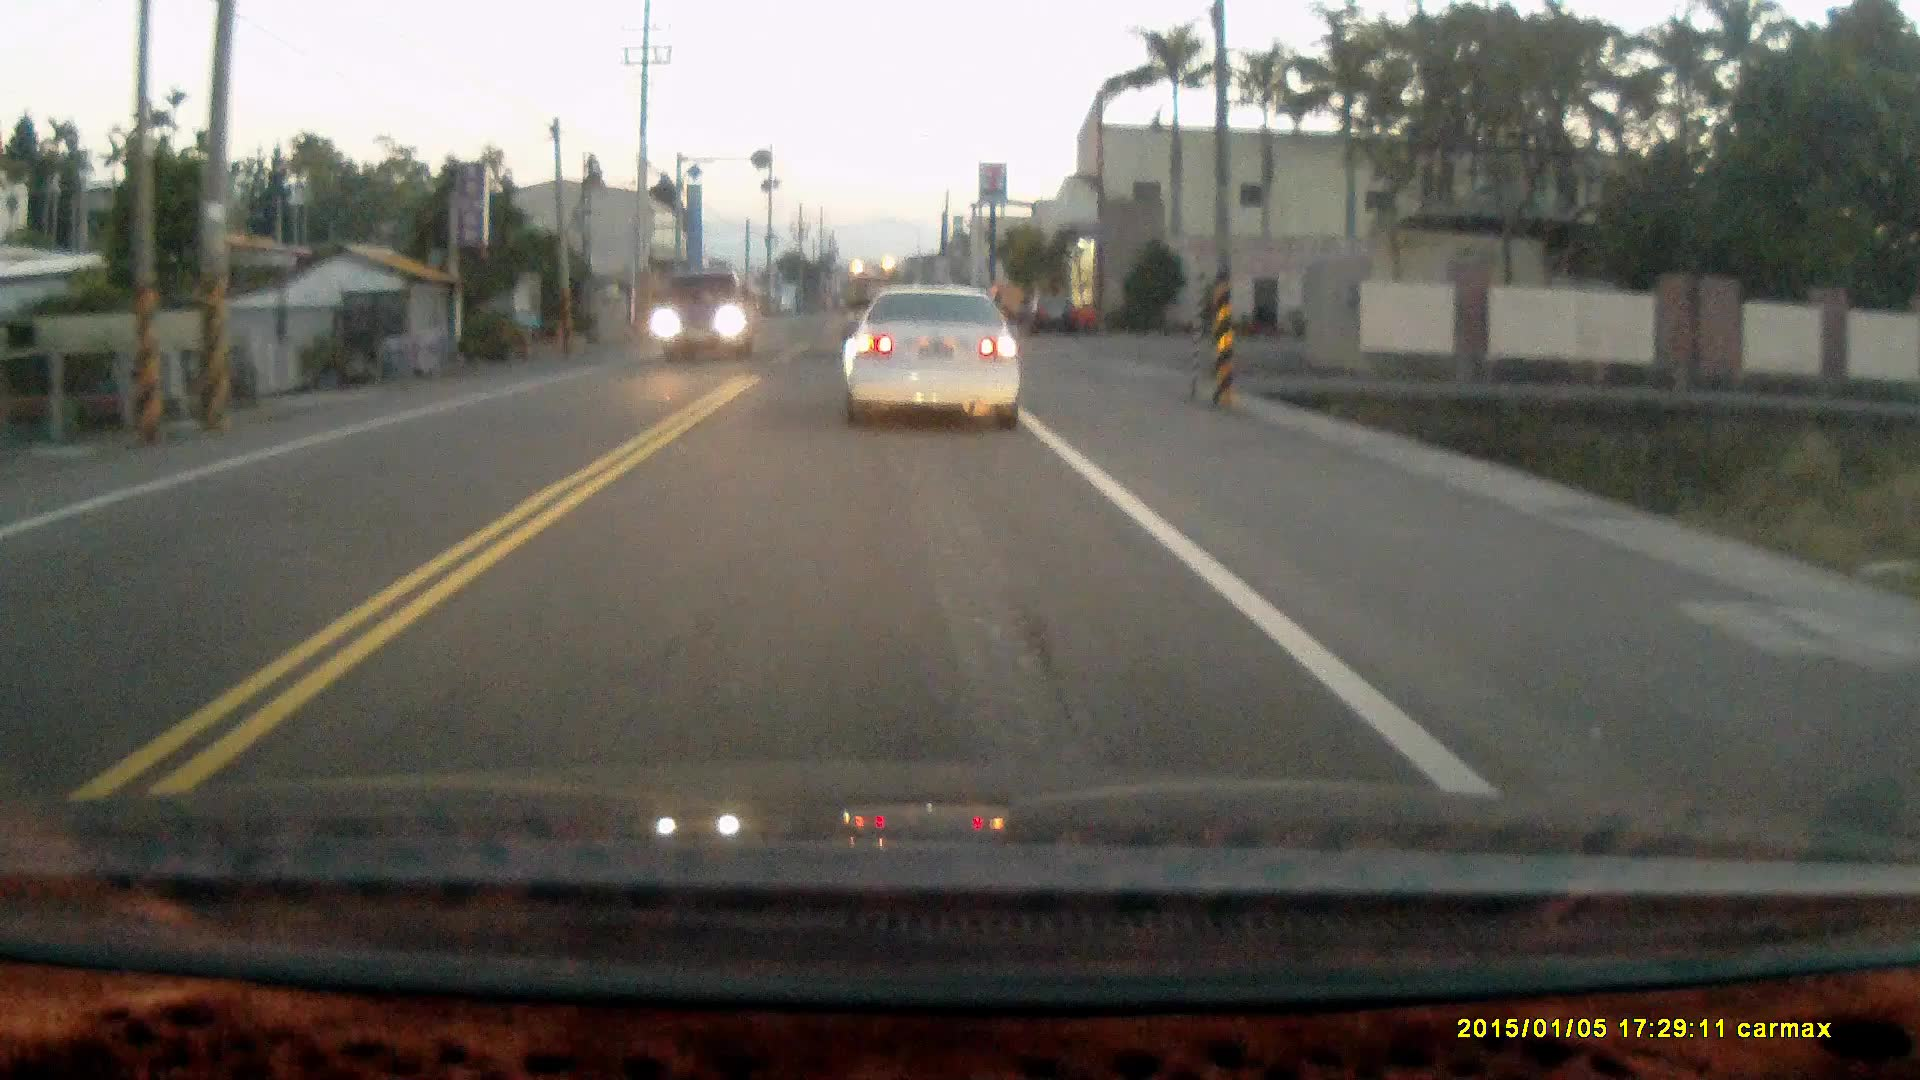vehicle: (848, 285, 1021, 438), (657, 269, 757, 369), (1025, 291, 1081, 338)
